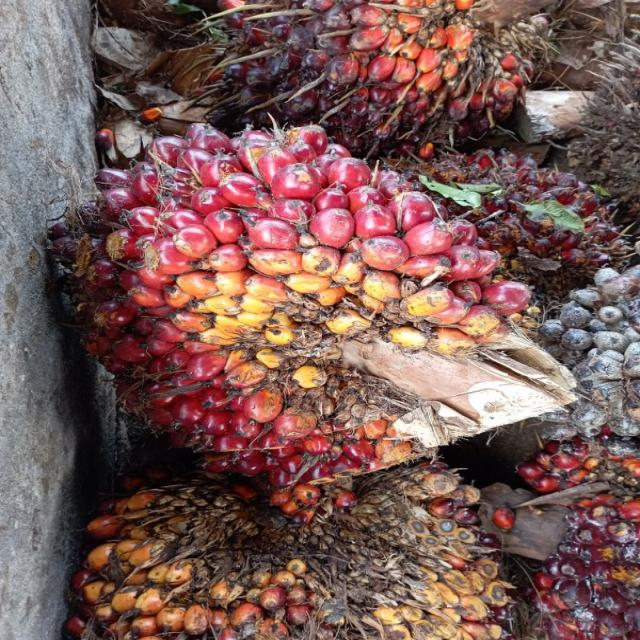fraksi 3: (29, 74, 599, 580)
